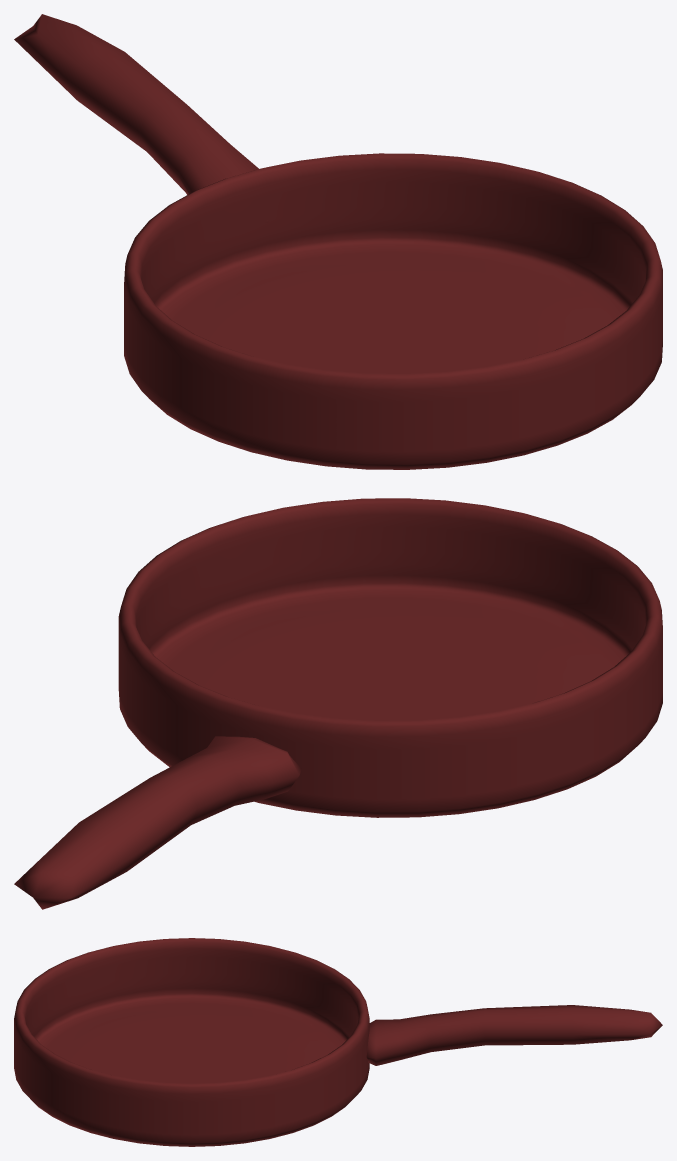
File: poêle.fbx
3 renders of one model, top to bottom at view 1: azimuth 30°, elevation 25°; view 2: azimuth 150°, elevation 25°; view 3: azimuth 270°, elevation 25°, orthographic. The views are drawn at different scales.
Parts seen in each view (by area): view 1: pCylinder2; view 2: pCylinder2; view 3: pCylinder2.
Boxes of the visible parts, box(x1,y1,x2,y2) form: pCylinder2: box(14, 14, 662, 469); pCylinder2: box(14, 498, 662, 909); pCylinder2: box(14, 938, 662, 1146).
Size of the model in its own units: 1.98 by 0.4071 by 3.6.
